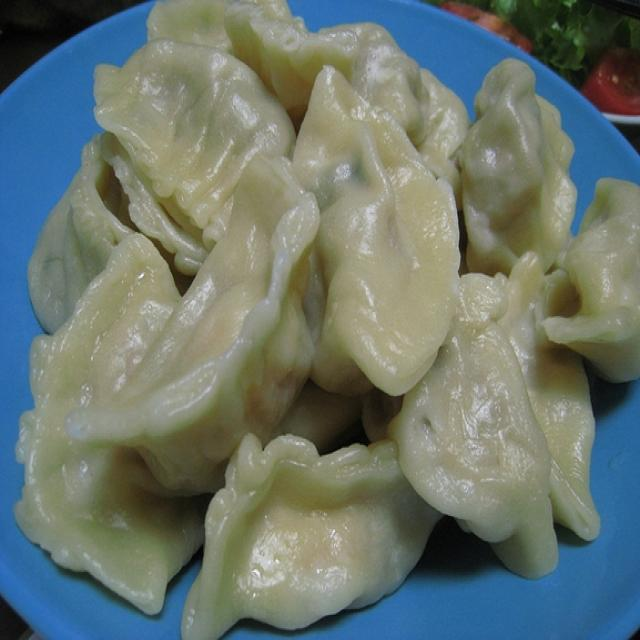带馅早点: (24, 21, 614, 624)
